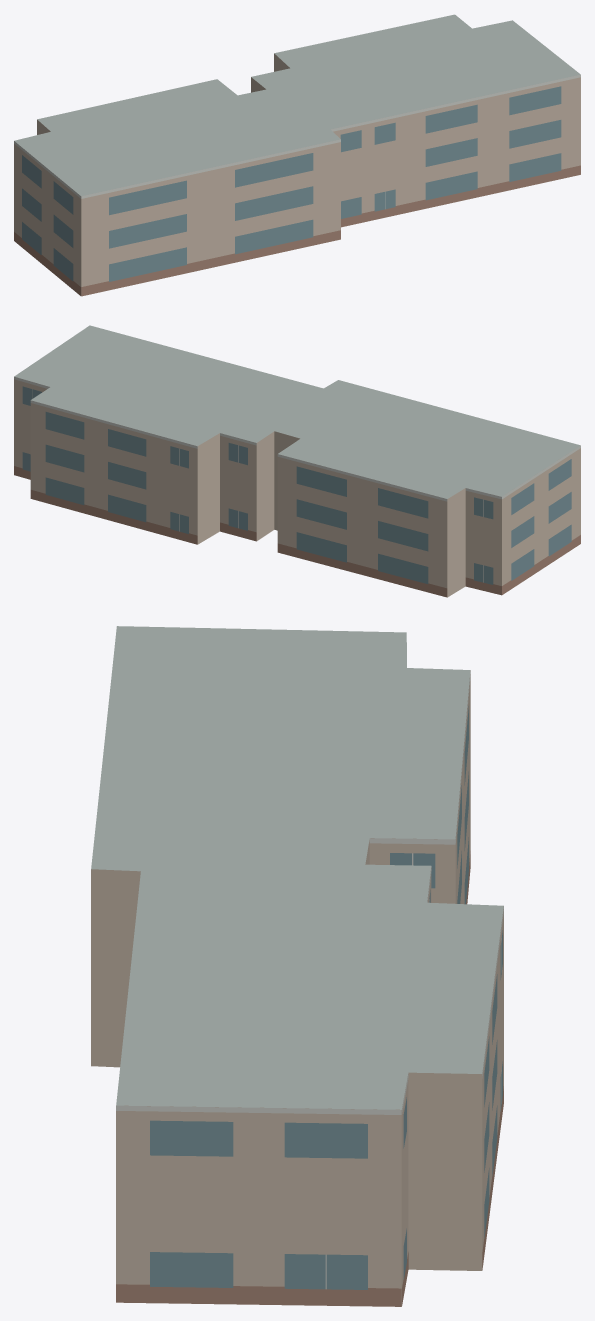
File: survey-upis-32886321.glb
3 views of the same model, one above another, from view 1: azimuth 30°, elevation 25°; view 2: azimuth 150°, elevation 25°; view 3: azimuth 270°, elevation 25° (orthographic). The views are drawn at different scales.
Parts seen in each view (by area): view 1: survey-upis-32886321.tmp; view 2: survey-upis-32886321.tmp; view 3: survey-upis-32886321.tmp.
Boxes of the visible parts, x1,y1,x2,y2 form: survey-upis-32886321.tmp: (14, 14, 580, 296); survey-upis-32886321.tmp: (14, 325, 580, 597); survey-upis-32886321.tmp: (91, 626, 503, 1306).
Size of the model in its own units: 48.19 by 9.15 by 17.39.
